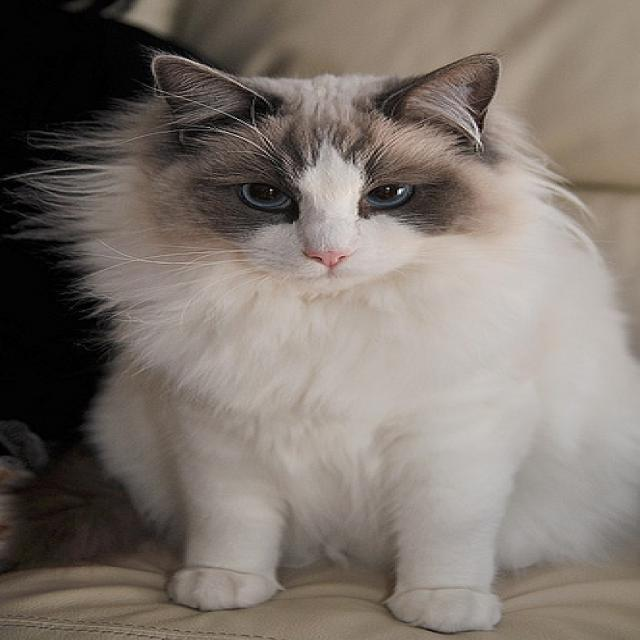Ragdoll: (149, 51, 498, 289)
